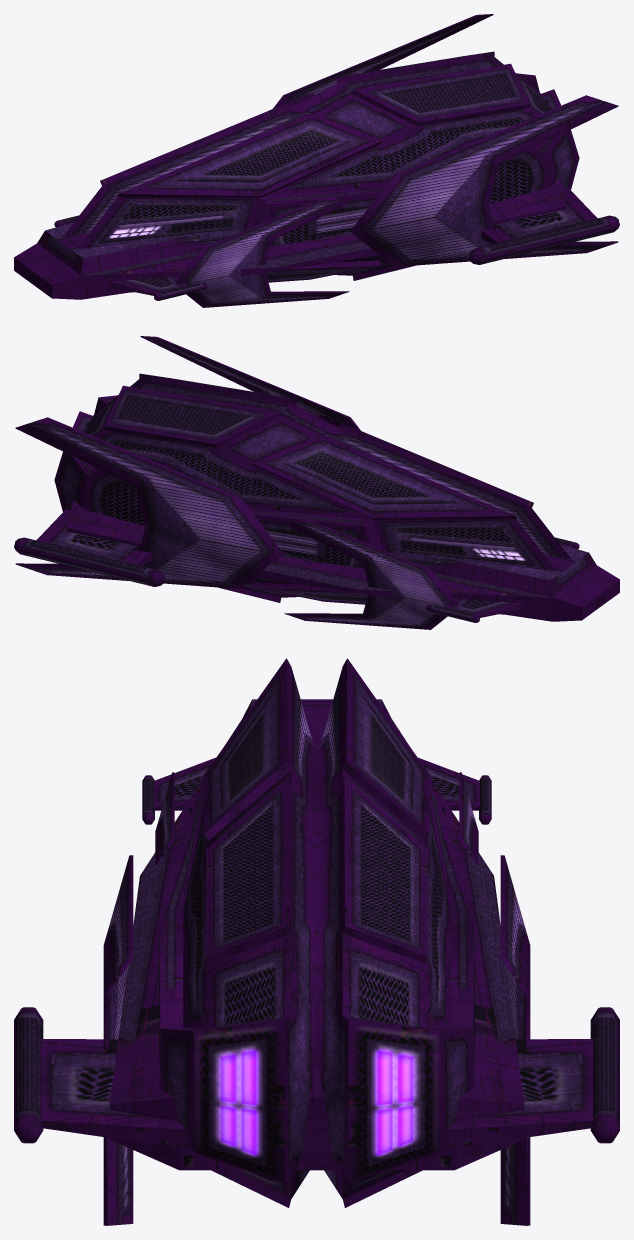
File: traiwyndLightCruiser.FBX
3 renders of one model, top to bottom at view 1: azimuth 30°, elevation 25°; view 2: azimuth 150°, elevation 25°; view 3: azimuth 270°, elevation 25°, orthographic. The views are drawn at different scales.
Parts seen in each view (by area): view 1: LightCruiser; view 2: LightCruiser; view 3: LightCruiser.
Part boxes in pixels (box(x1,y1,x2,y2)): LightCruiser: box(14, 14, 619, 307); LightCruiser: box(14, 336, 619, 629); LightCruiser: box(14, 658, 619, 1225).
Bounding box in the file's own units: 26.5 × 9.25 × 15.71.
1 material, 1 textured.
